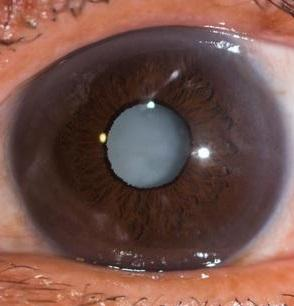eye: (26, 36, 283, 269)
